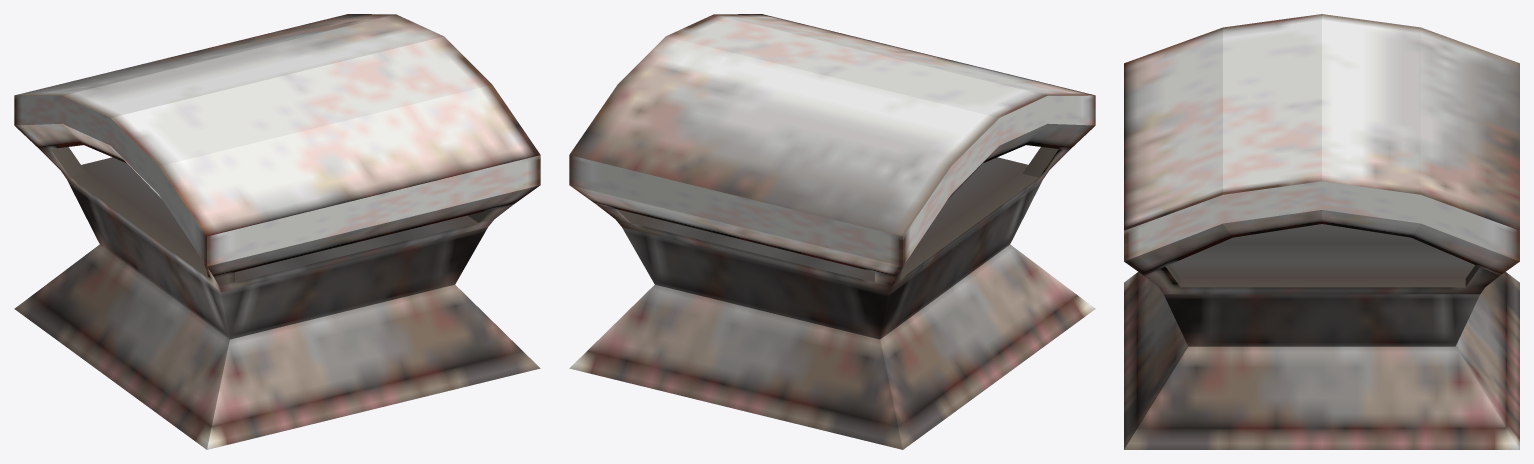
The model's file is Poly_SF_Outside_B_Chimney_03.obj.
The picture shows the model from 3 angles, left to right: view 1: azimuth 30°, elevation 25°; view 2: azimuth 150°, elevation 25°; view 3: azimuth 270°, elevation 25°; orthographic projection. The views are drawn at different scales.
Visible parts, largest first — view 1: Cube.002, Cube.003, Cube.004; view 2: Cube.002, Cube.003, Cube.004; view 3: Cube.002, Cube.003, Cube.004.
Part boxes in pixels (bbox=[...]): Cube.002: bbox=[14, 14, 540, 277]; Cube.003: bbox=[14, 180, 540, 449]; Cube.004: bbox=[41, 147, 513, 292]; Cube.002: bbox=[569, 14, 1095, 277]; Cube.003: bbox=[569, 180, 1095, 449]; Cube.004: bbox=[596, 147, 1068, 292]; Cube.002: bbox=[1124, 14, 1519, 275]; Cube.003: bbox=[1124, 272, 1519, 449]; Cube.004: bbox=[1144, 224, 1499, 294].
Bounding box in the file's own units: 0.8 × 0.5989 × 0.8.
1 material, 1 textured.
